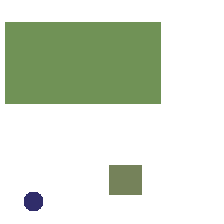circle: (24, 192, 42, 210)
rectangle: (5, 22, 160, 103), (109, 165, 141, 194)
